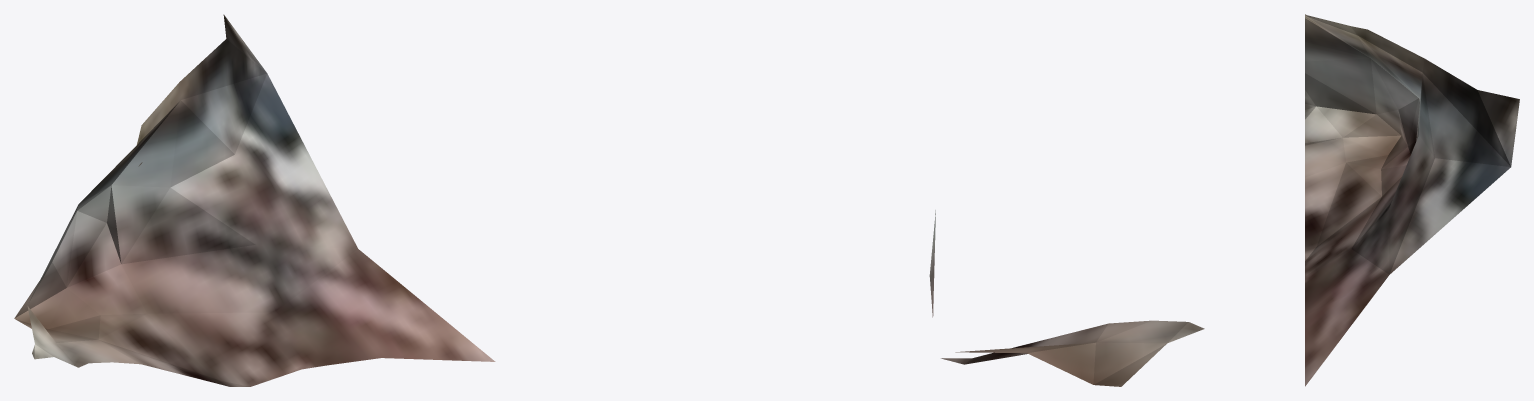
3 renders of one model, left to right at view 1: azimuth 30°, elevation 25°; view 2: azimuth 150°, elevation 25°; view 3: azimuth 270°, elevation 25°, orthographic. The views are drawn at different scales.
Bounding box in the file's own units: 1.01 × 0.5912 × 0.4961.
1 material, 1 textured.
